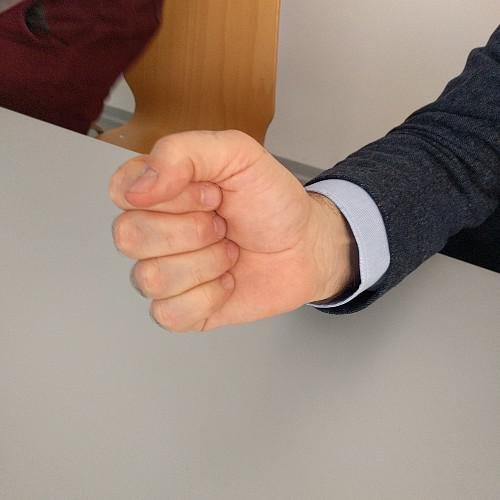rock: (98, 119, 353, 344)
